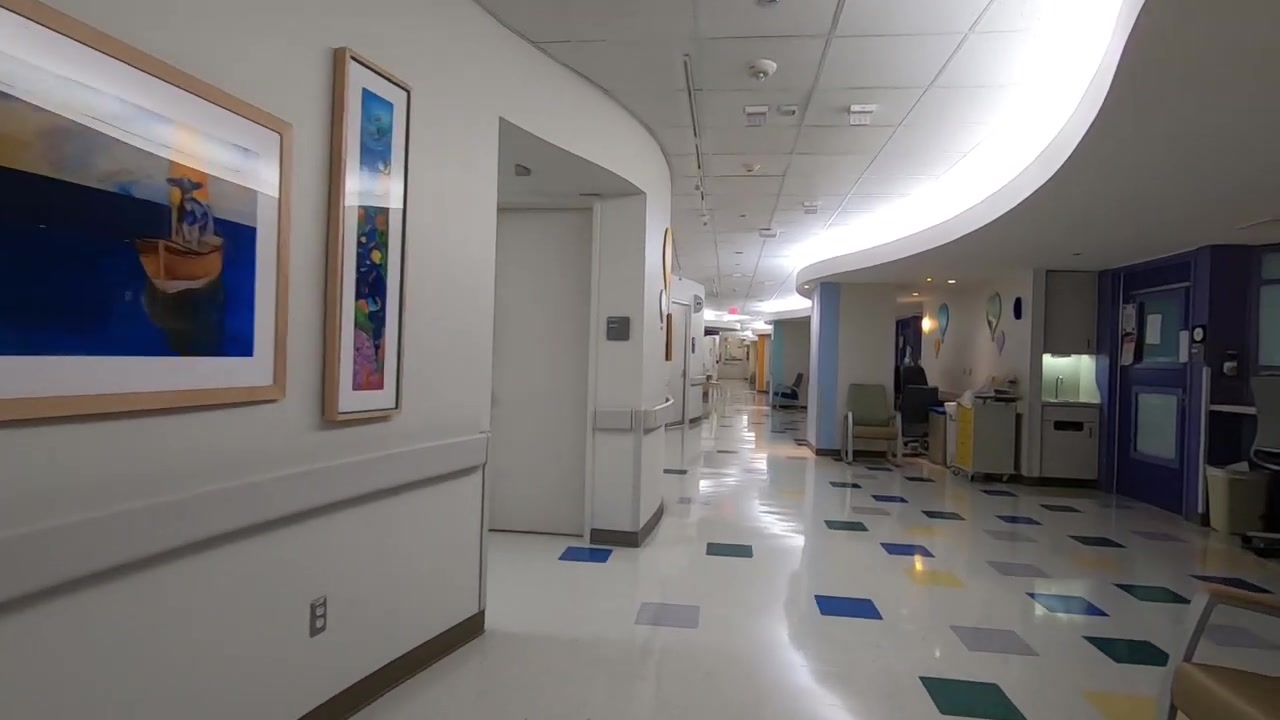cabinet: (1045, 270, 1099, 355)
chair: (1155, 585, 1280, 720), (841, 383, 903, 467), (897, 386, 940, 450), (773, 371, 804, 410), (899, 364, 930, 385)
door_handle: (1177, 385, 1191, 405)
faucet: (1055, 375, 1065, 399)
hallway_assist_bar: (1, 431, 492, 605), (643, 394, 675, 430)
handle: (1088, 428, 1093, 439), (1086, 339, 1091, 350)
medical_drawer: (953, 401, 1017, 483)
waste_bin: (1205, 461, 1271, 534), (1042, 400, 1098, 479), (927, 406, 946, 464)
